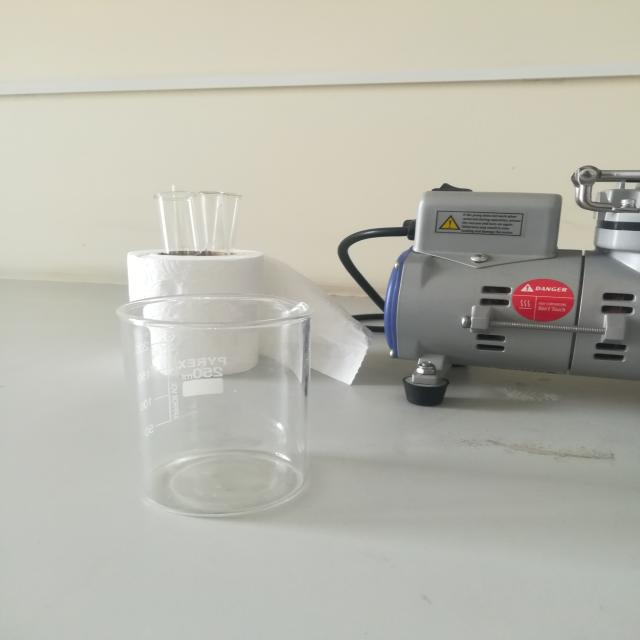Beaker: (59, 273, 361, 543)
